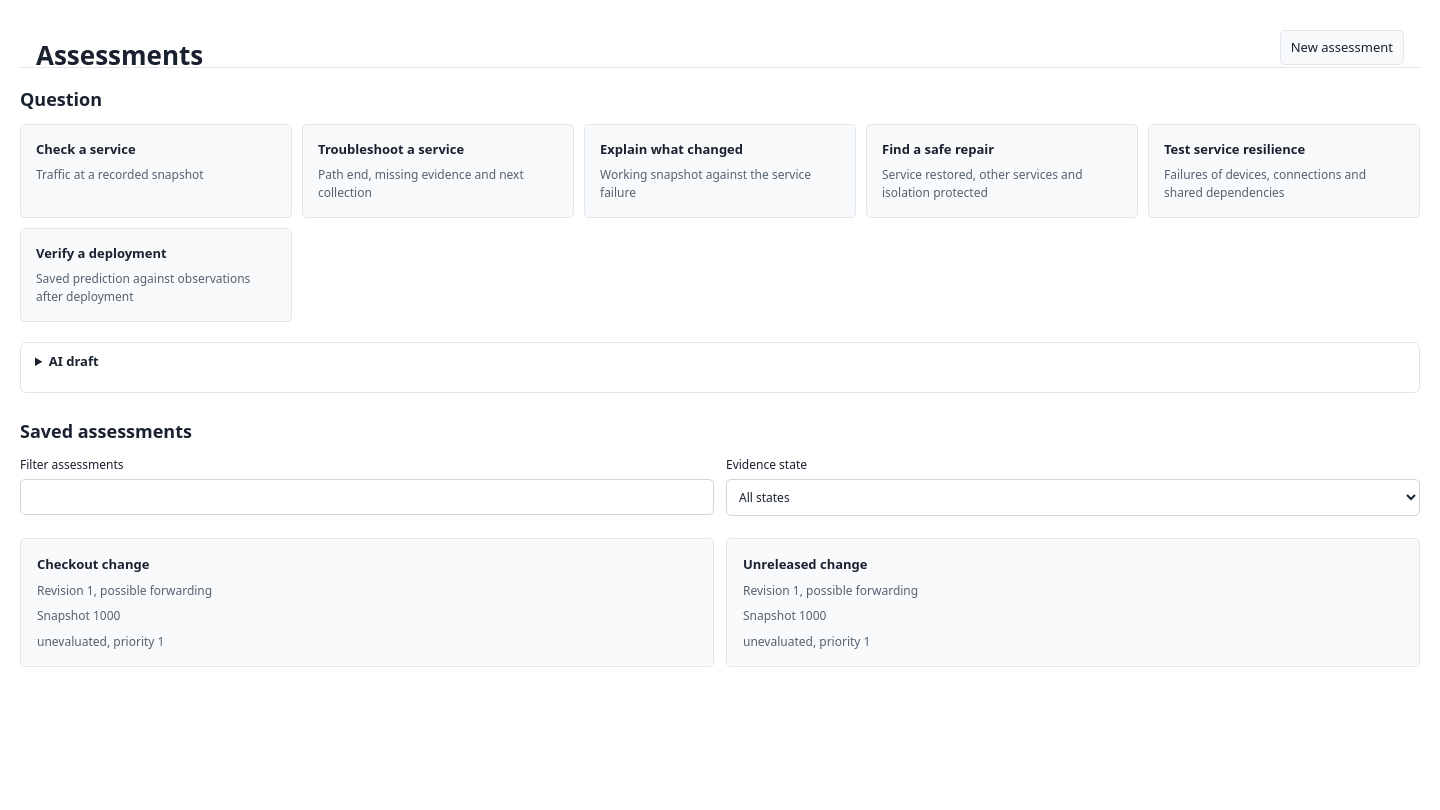
Scenario: Assessments workflow › opens deployment verification from the workflow card using an existing assessment
Click the button "Verify a deployment".
click(156, 275)  # box [20,228,292,322]
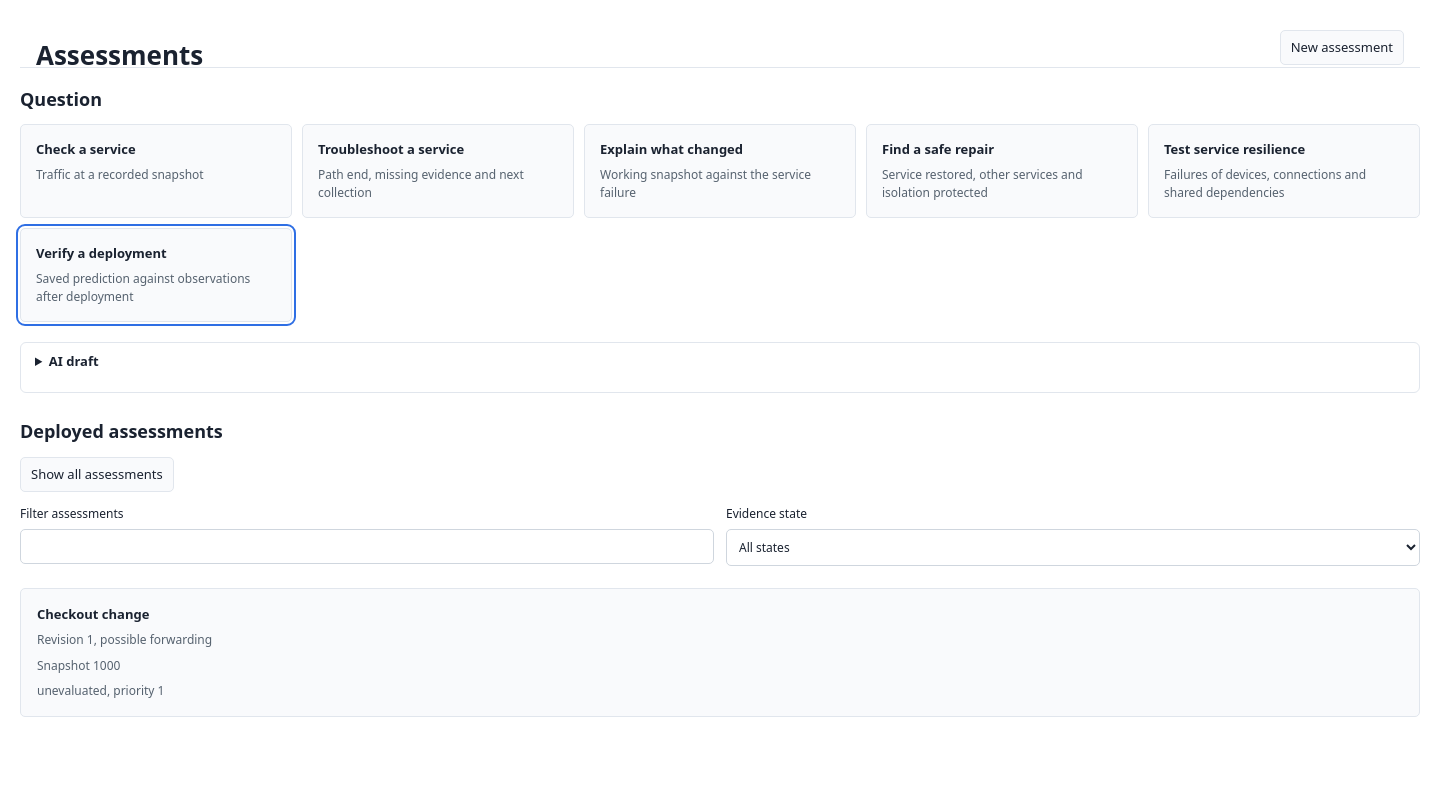
Now the button "Unreleased change" is gone
Click the button "Checkout change".
click(720, 652)  # box [20,588,1420,717]
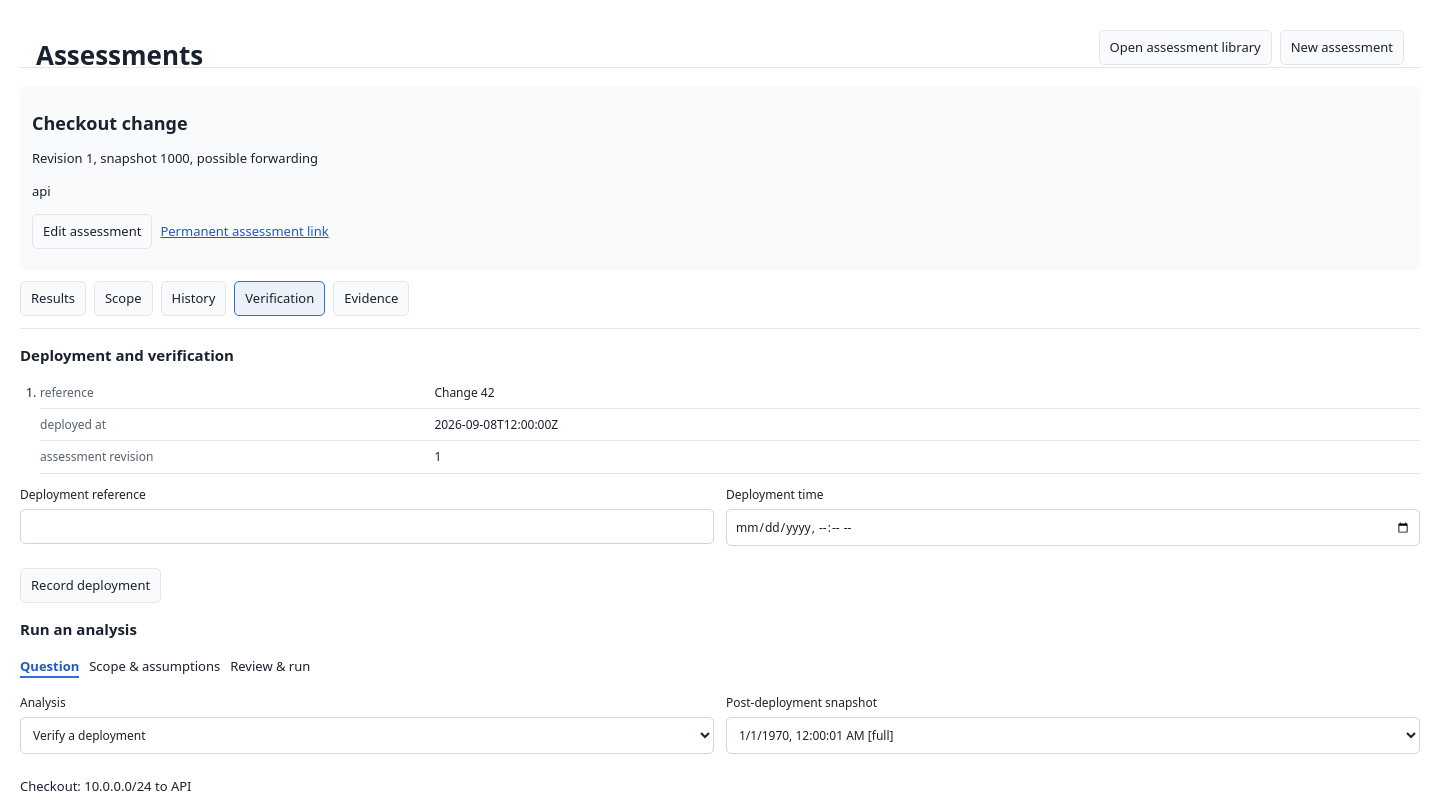
Now the heading "Deployment and verification" is shown, box [20,345,234,365]
Now the dropdown labelled "Analysis" shows "Verify a deployment", box [20,717,714,754]
